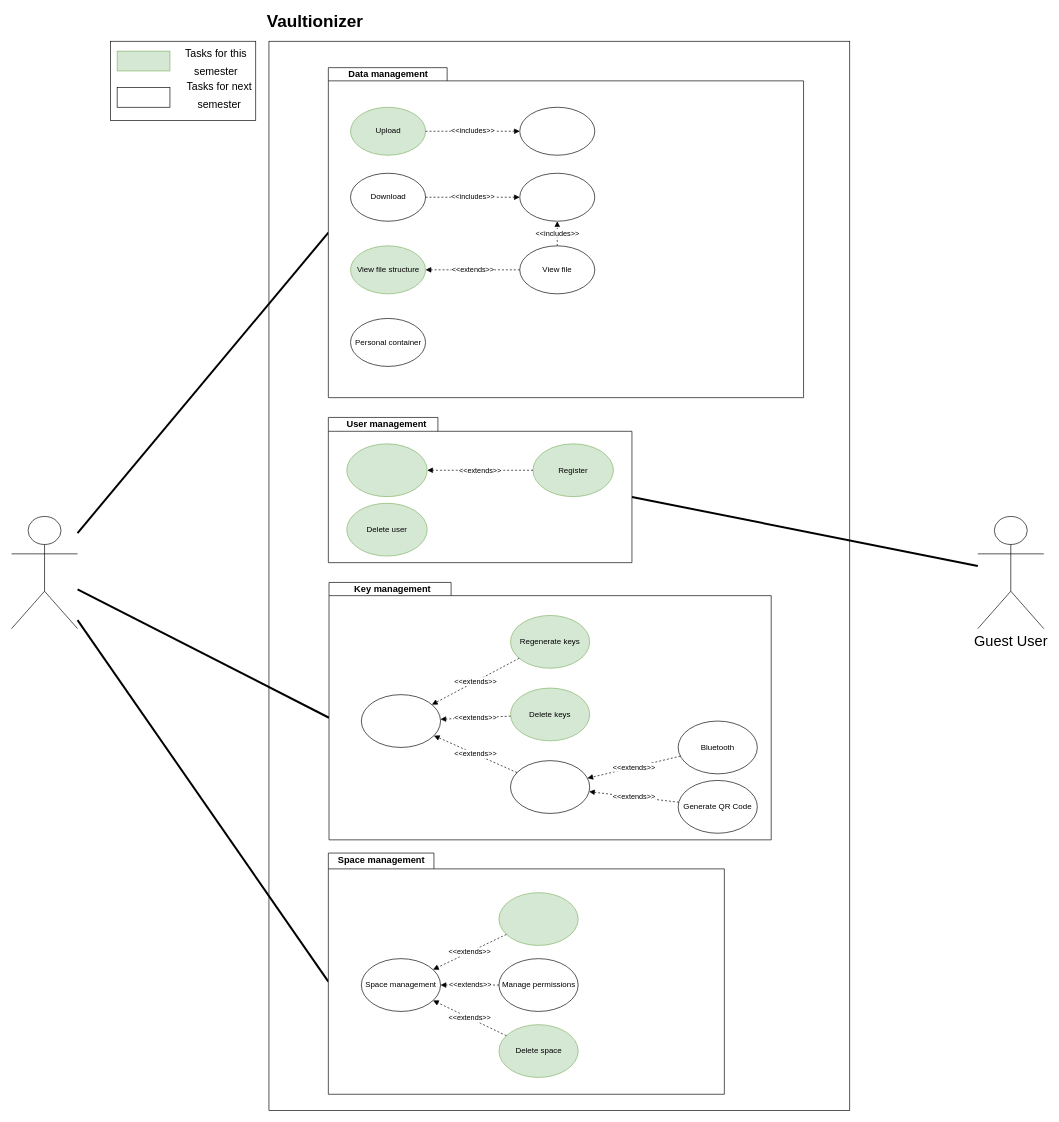
Some shapes in this 1059 by 1122 pixel diagram are drawn without their labels. Here are the shapes that lost their labels. From the top down, the centre of each, then its label:
point (557, 131): Encrypt
point (557, 197): Decrypt
point (386, 470): Login
point (44, 572): Logged in user
point (401, 720): Manage keys
point (550, 786): Exchange keys
point (538, 918): Create space
